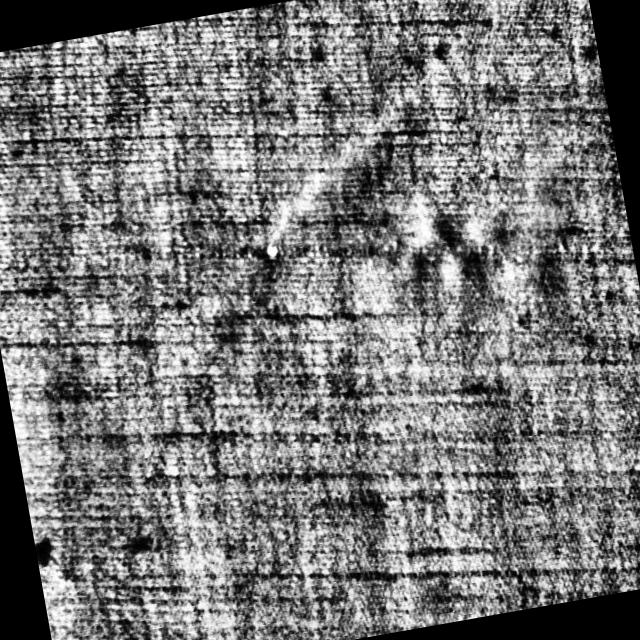cut: (252, 224, 288, 280)
